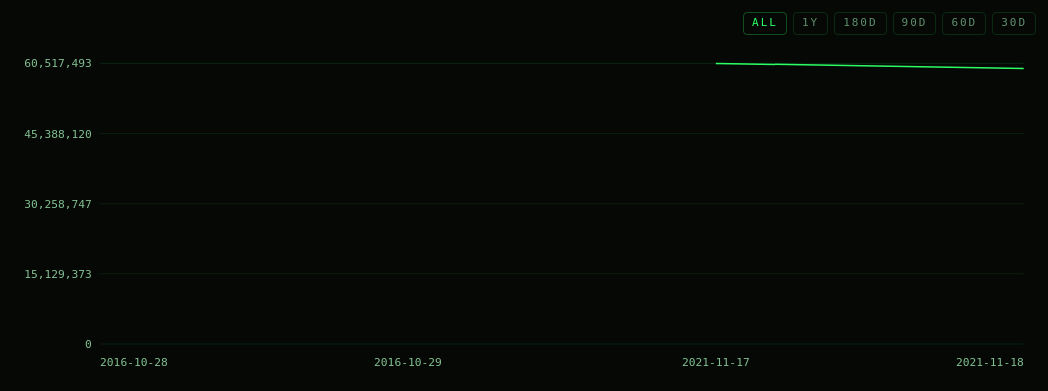
Test case: difficulty leaves an unrecorded day blank › reads an unrecorded day as absent, not as a number
Step 1. Focus the element named "use the arrow keys" → (524, 210), box [12, 46, 1036, 374]
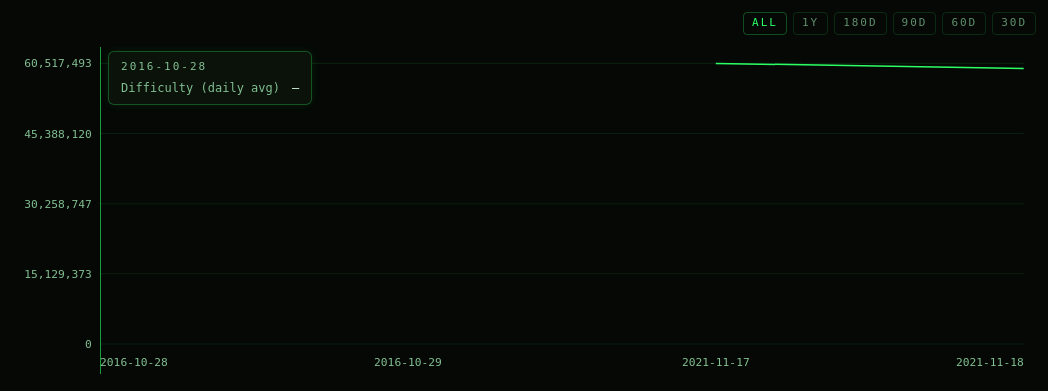
Check: the message shows "Difficulty", box [121, 81, 280, 95]
